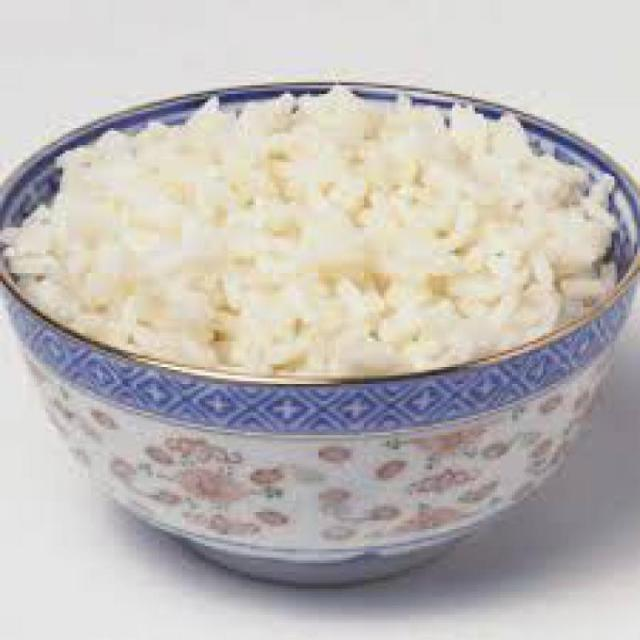nasi_putih: (6, 90, 620, 380)
